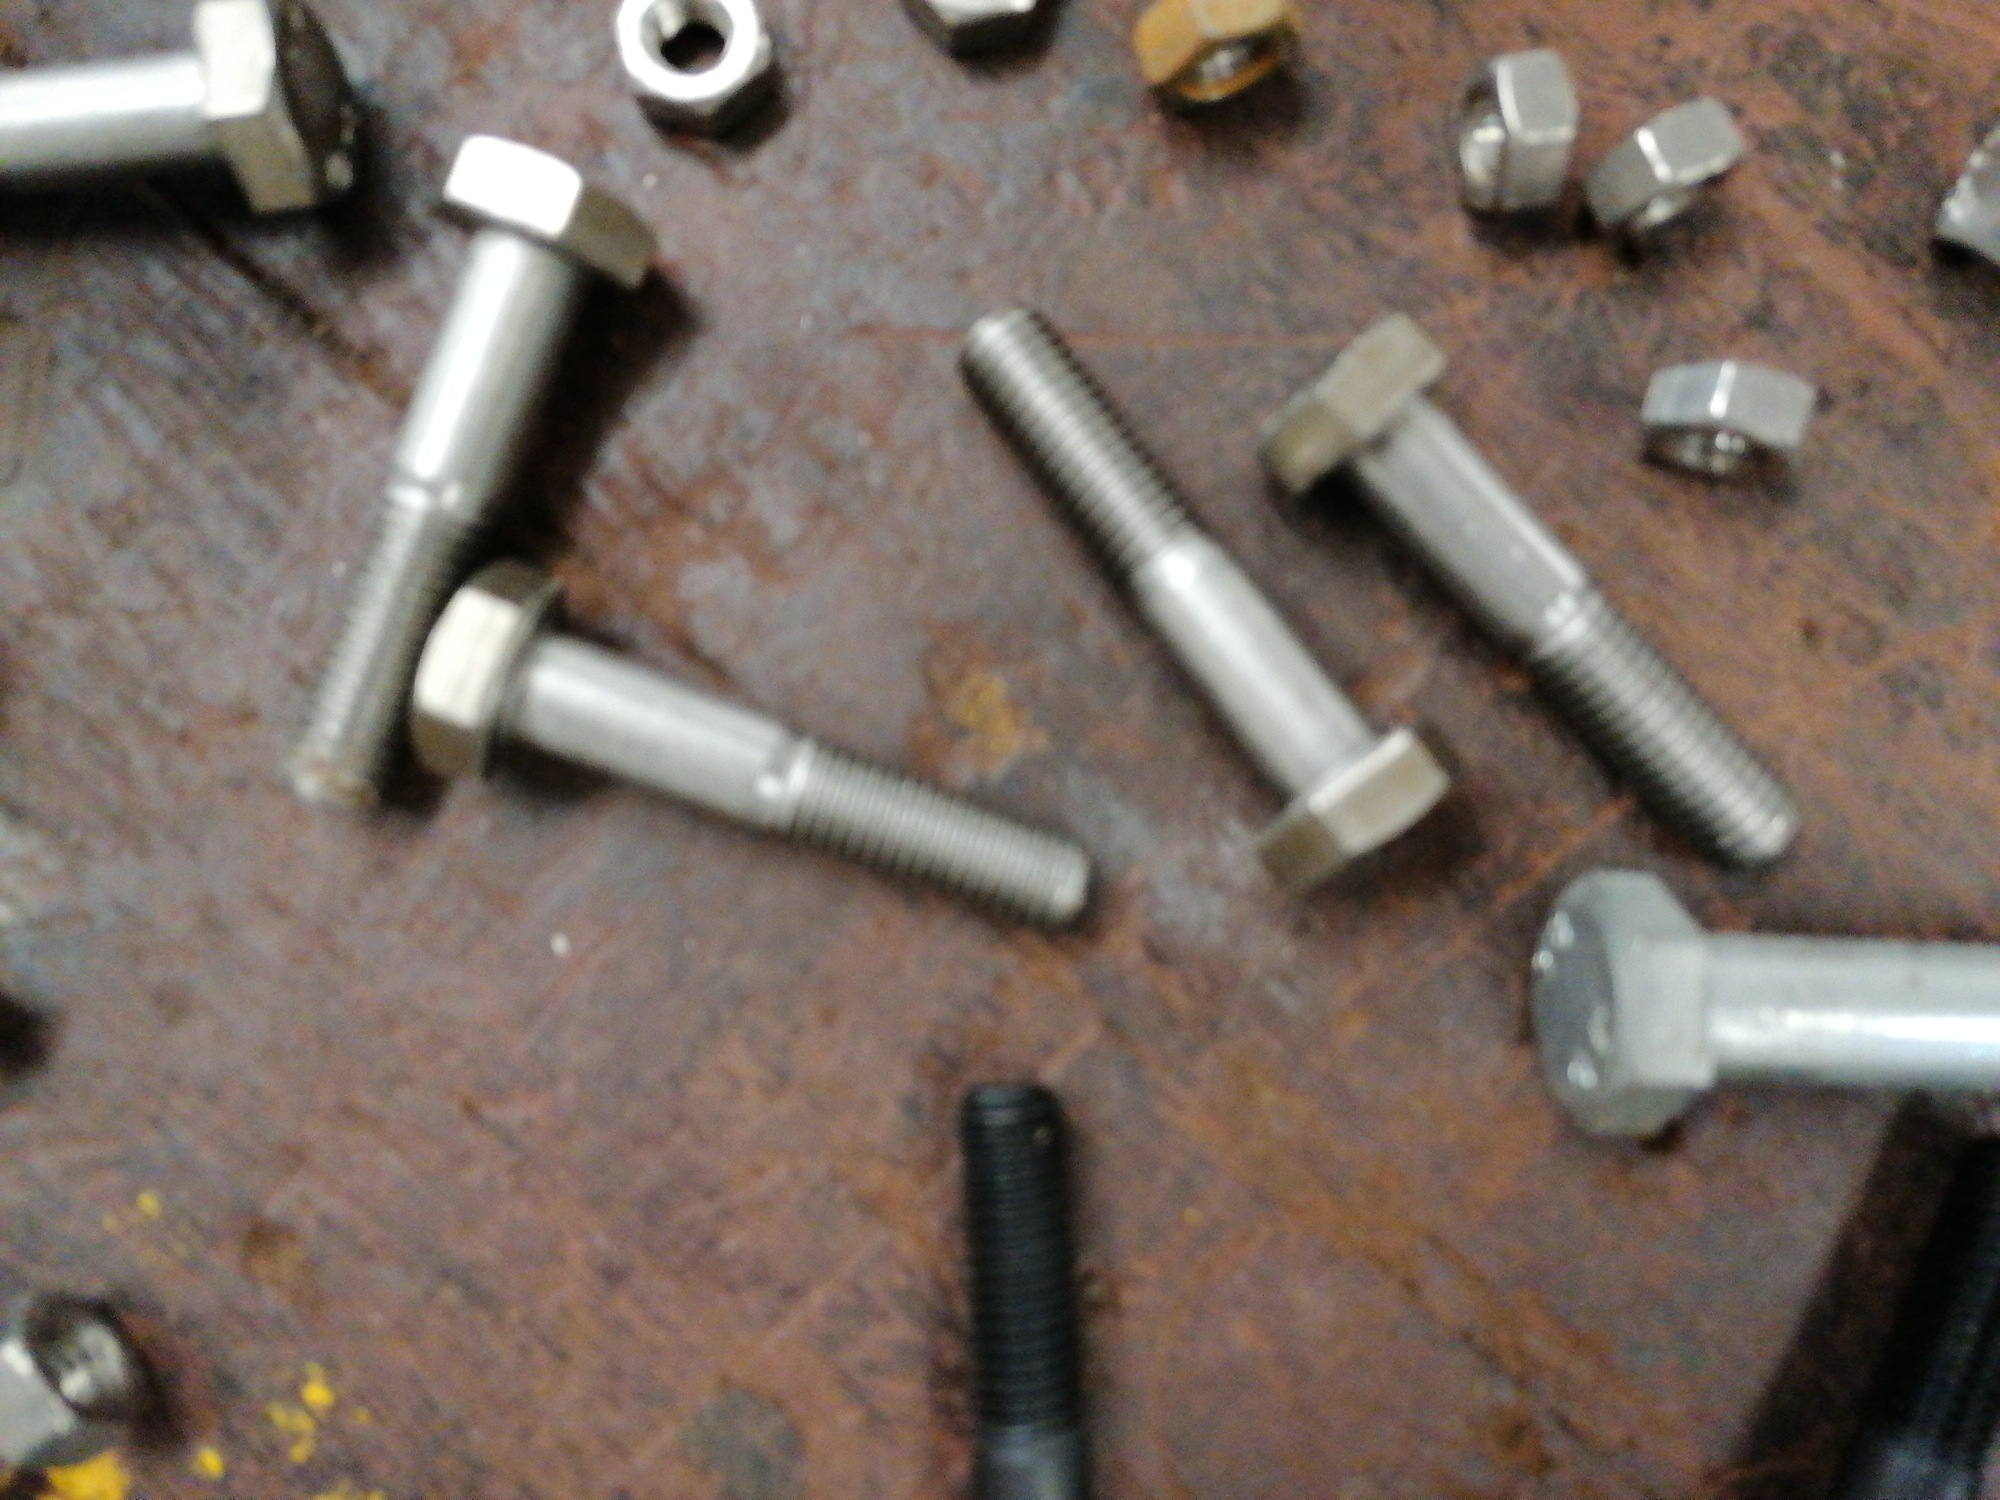bolt: (1254, 307, 1805, 871), (959, 296, 1458, 901), (406, 556, 1102, 937), (279, 132, 660, 821), (1526, 867, 2000, 1145), (2, 2, 362, 211), (954, 1078, 1102, 1498)
nut: (0, 1286, 157, 1472), (1578, 95, 1750, 238), (598, 2, 783, 132), (1638, 355, 1817, 488), (1450, 47, 1576, 217), (1128, 2, 1310, 109), (1928, 117, 2000, 277), (902, 0, 1058, 65)
